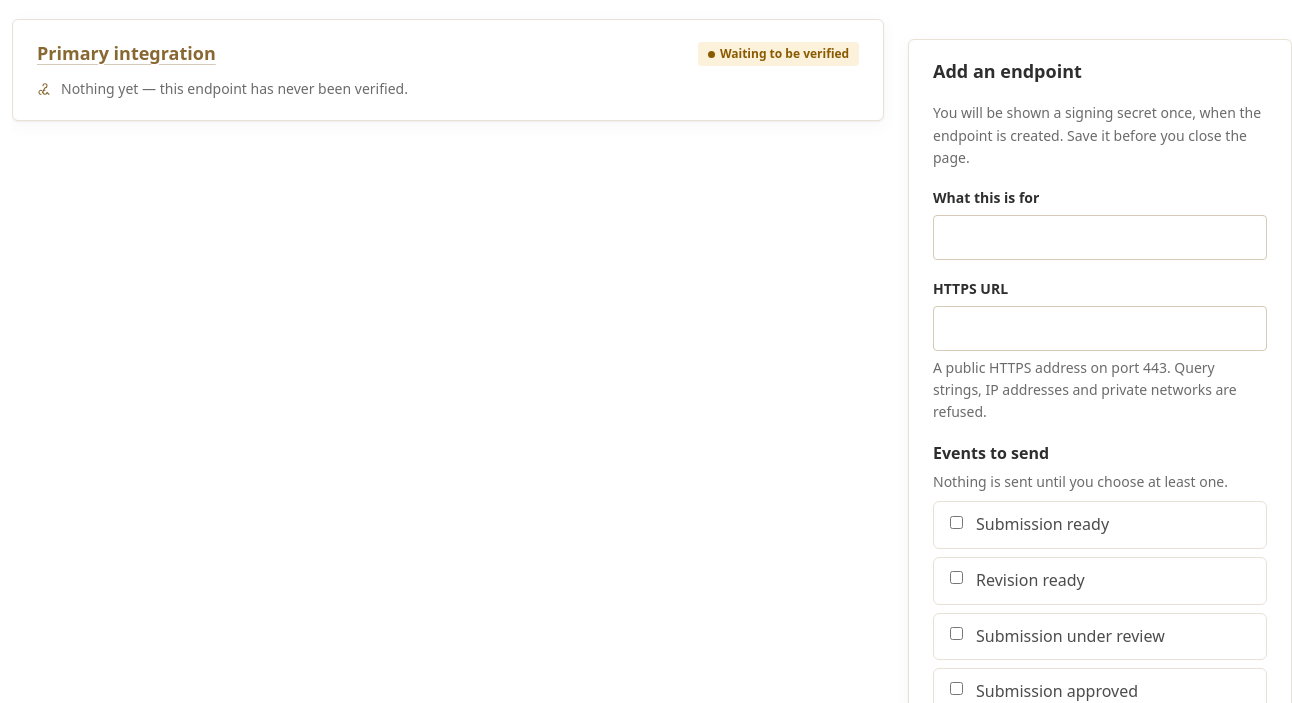
Test: Webhook screens › shows a created secret once and puts it nowhere that outlives the page
This screenshot has width=1292, height=703.
expect the text "Primary integration" is shown: met, box [37,41,216,65]
Type "Primary integration" into the field labelled "What this is for" at (1100, 238), box [933,215,1267,260]
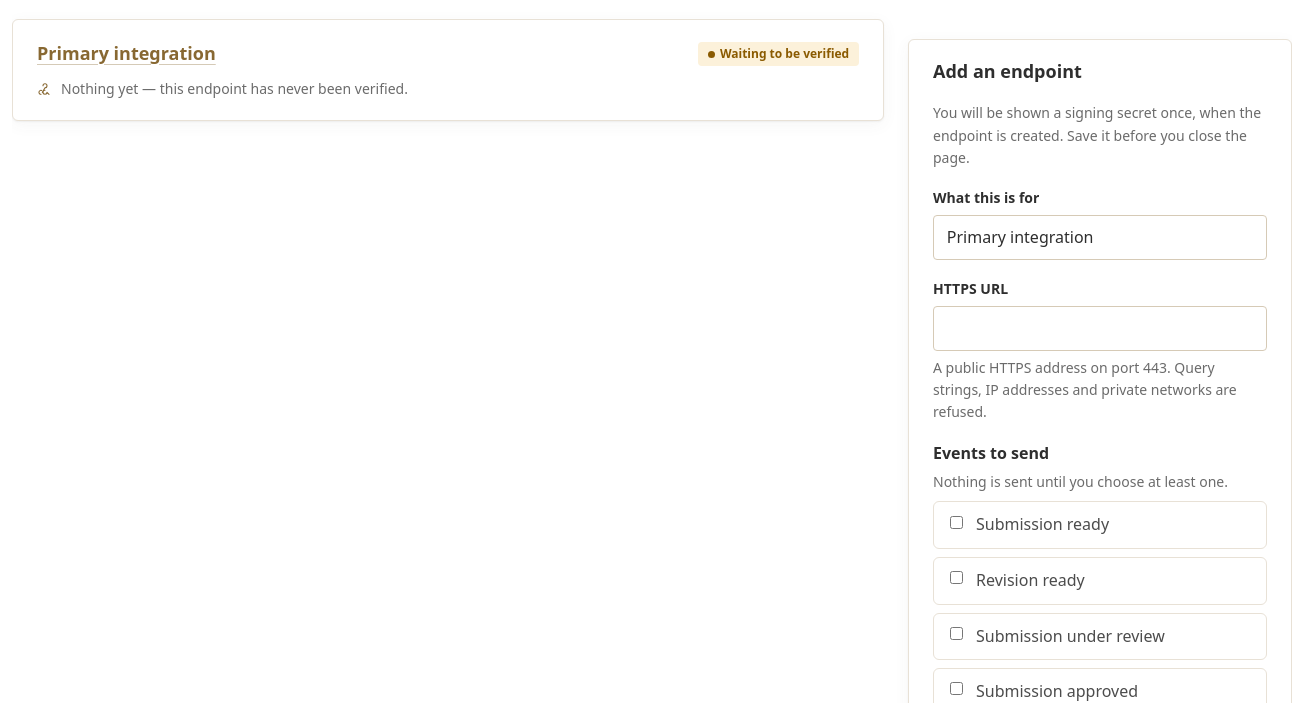
Type "https://receiver.example/hook" into the field labelled "HTTPS URL" at (1100, 328), box [933,306,1267,351]
(page scrolled)
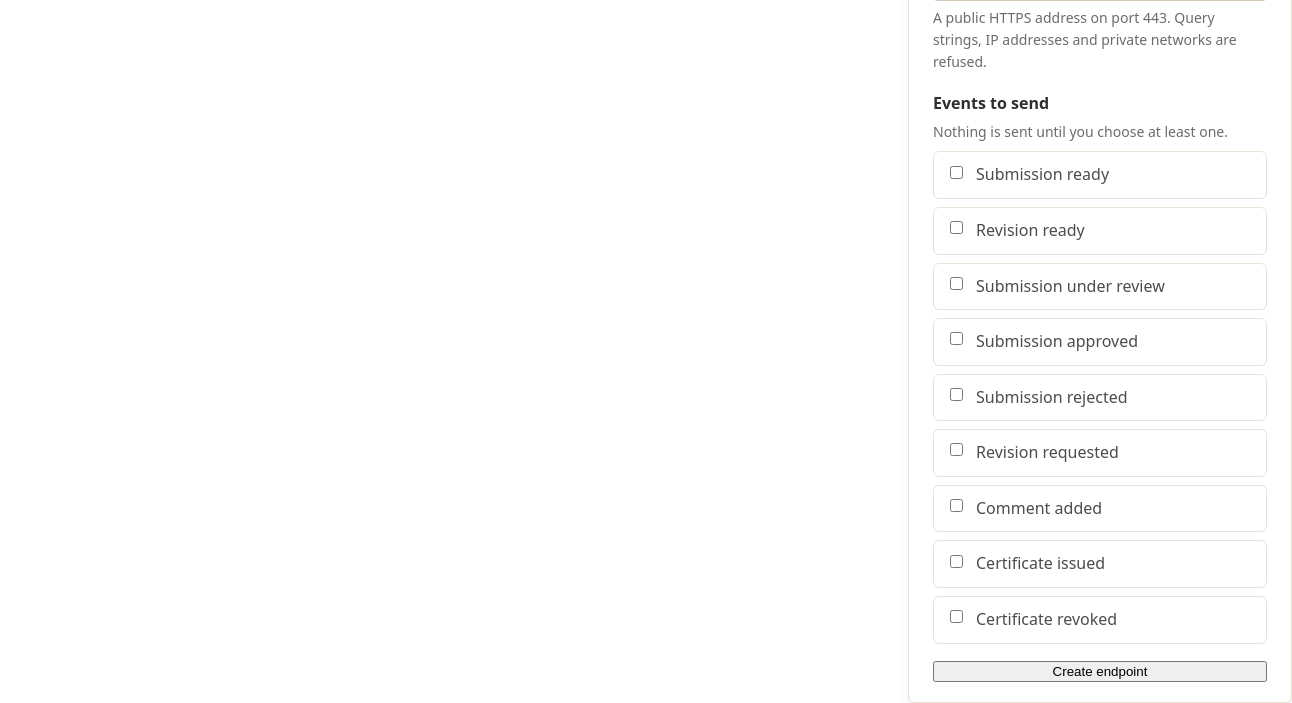
Click the button "Create endpoint" at (1100, 672), box [933,661,1267,682]
(page scrolled)
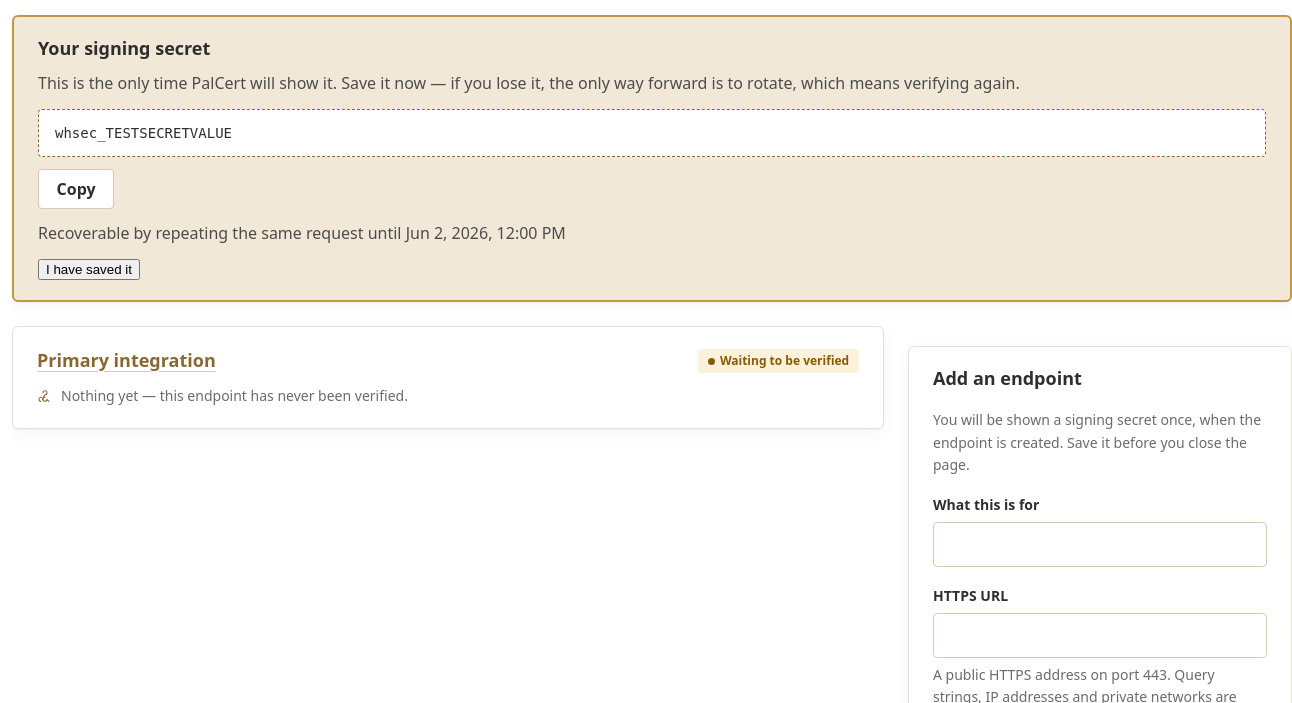
expect the text with test id "webhook-signing-secret" reads "whsec_TESTSECRETVALUE": met, box [55,125,232,141]
